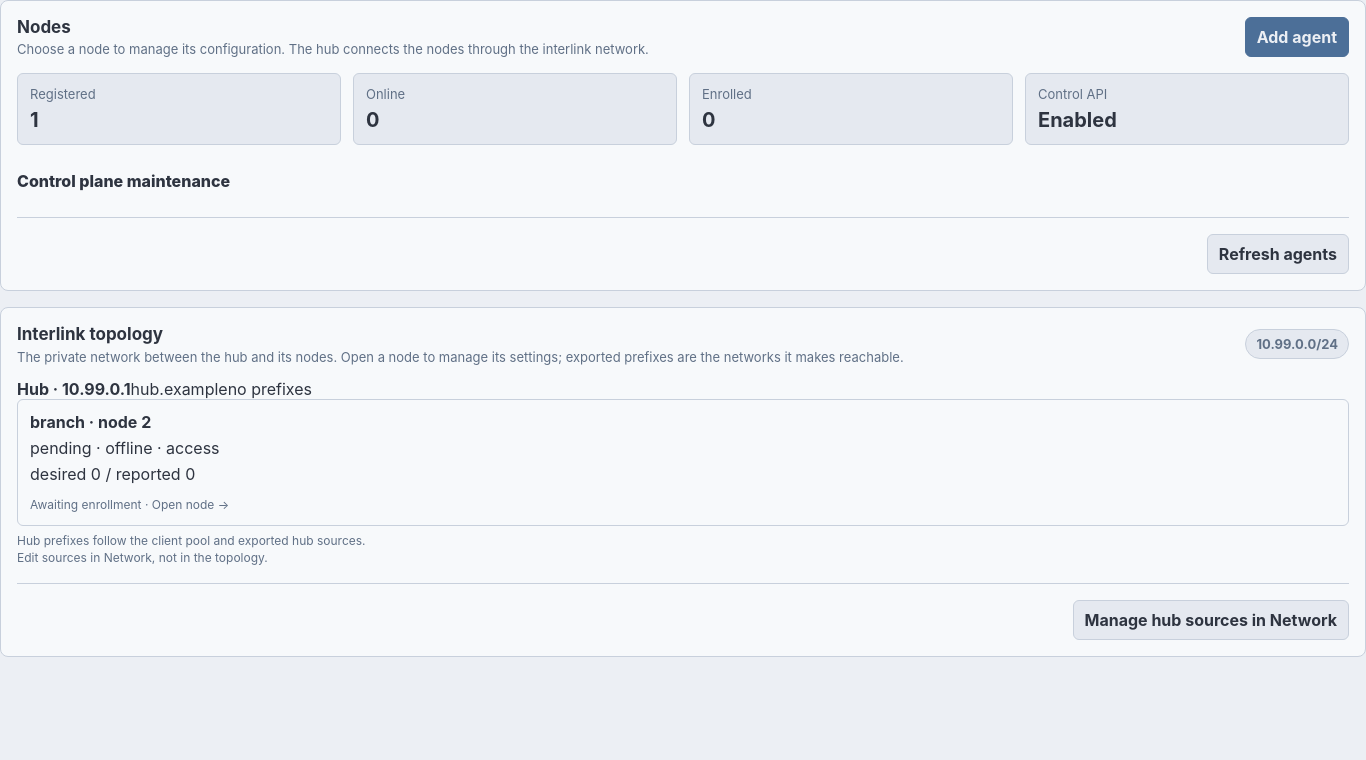
it: Agent management › opens a dedicated node workspace with tabs and retains settings drafts between tabs
Step 1. Click the button "branch · node 2" → click(683, 462), box [17,398,1349,526]
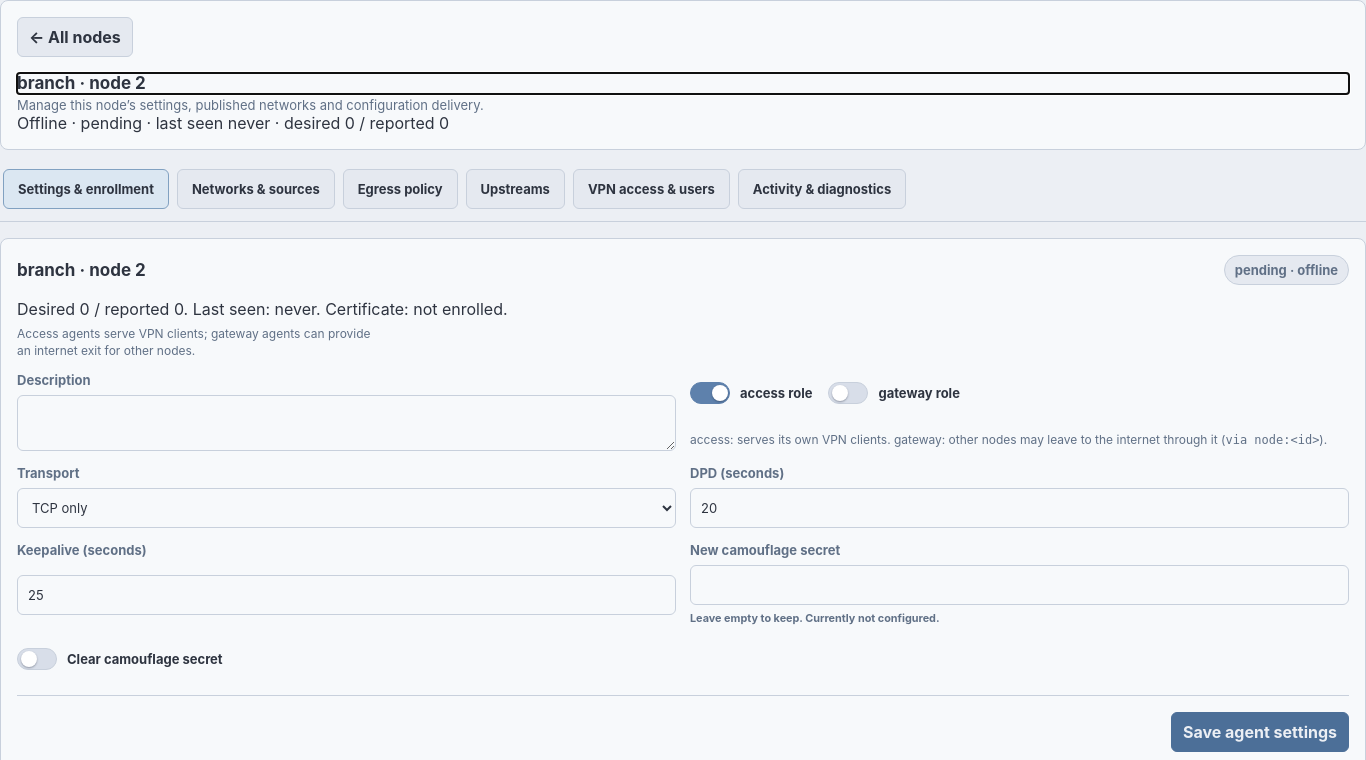
Step 2. Type "Unsaved description" into the text box labelled "Description" → (346, 423), box [17,395,676,450]
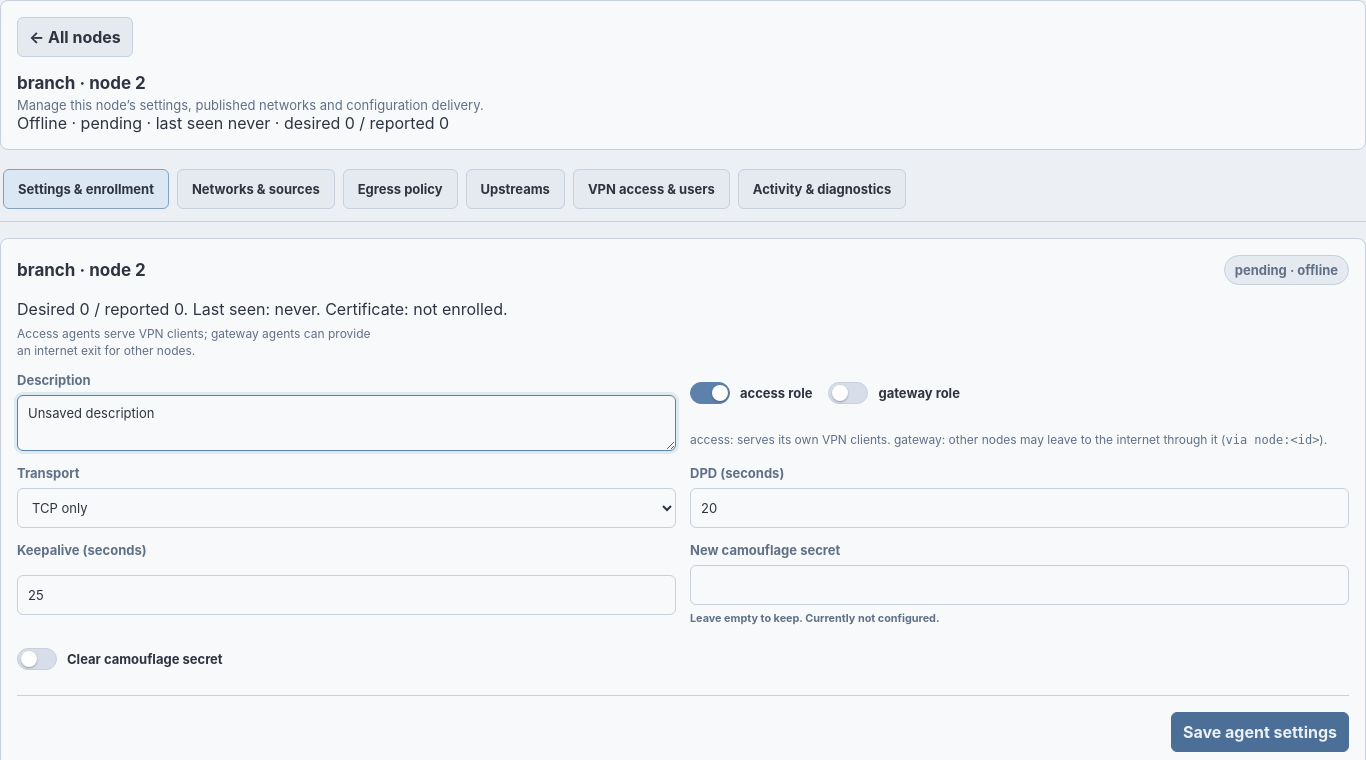
Expected: the button "Add agent" is not shown
Step 3. Click the button "Networks & sources" → click(256, 189), box [177,169,335,209]
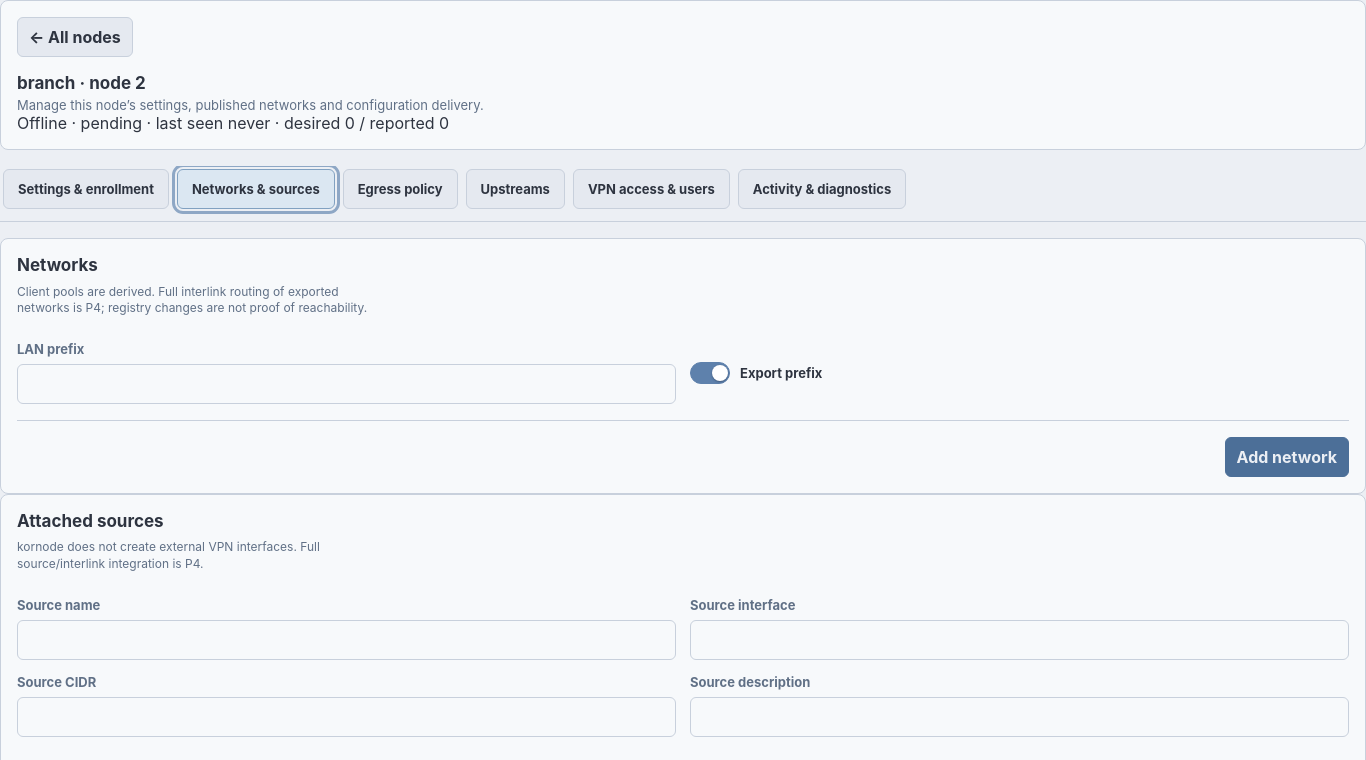
Step 4. Click the button "Settings & enrollment" → click(86, 189), box [3,169,169,209]
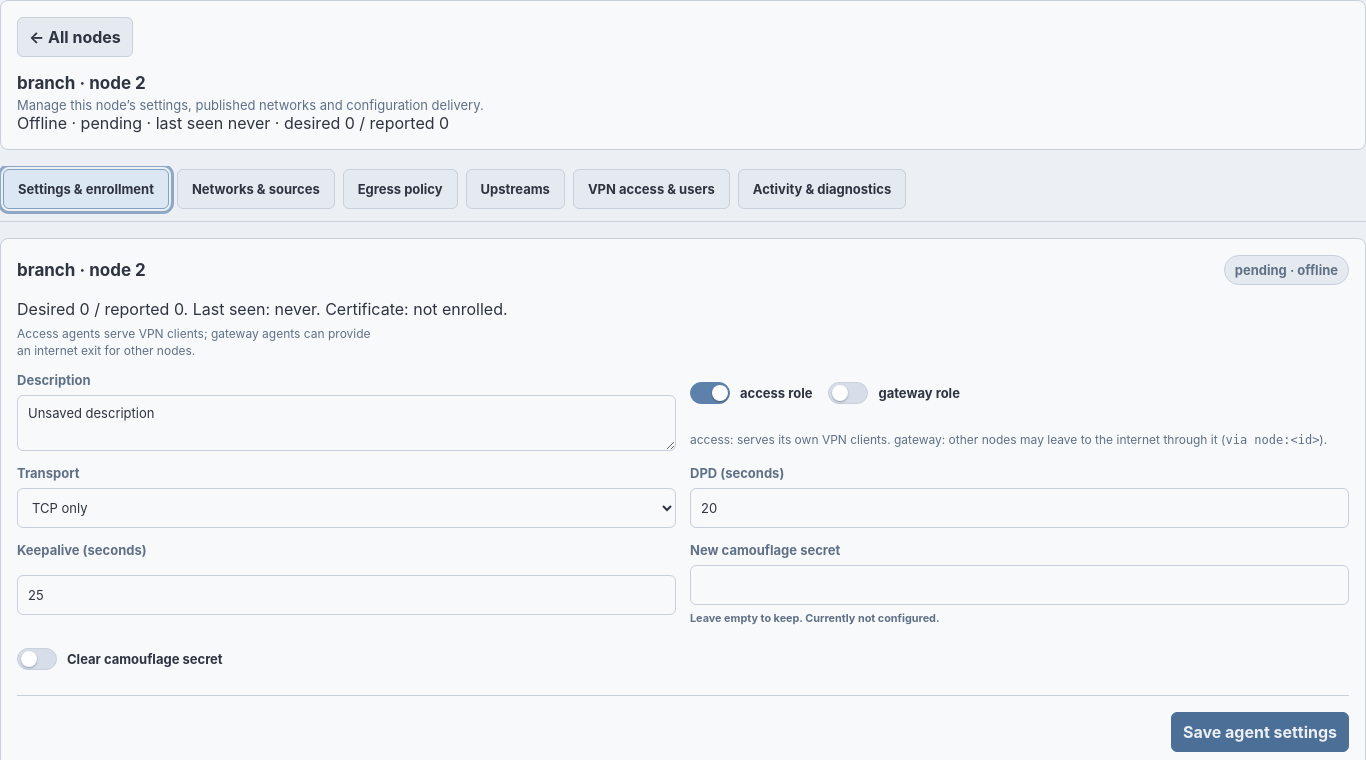
Step 5. Click the button "← All nodes" → click(75, 37), box [17,17,133,57]
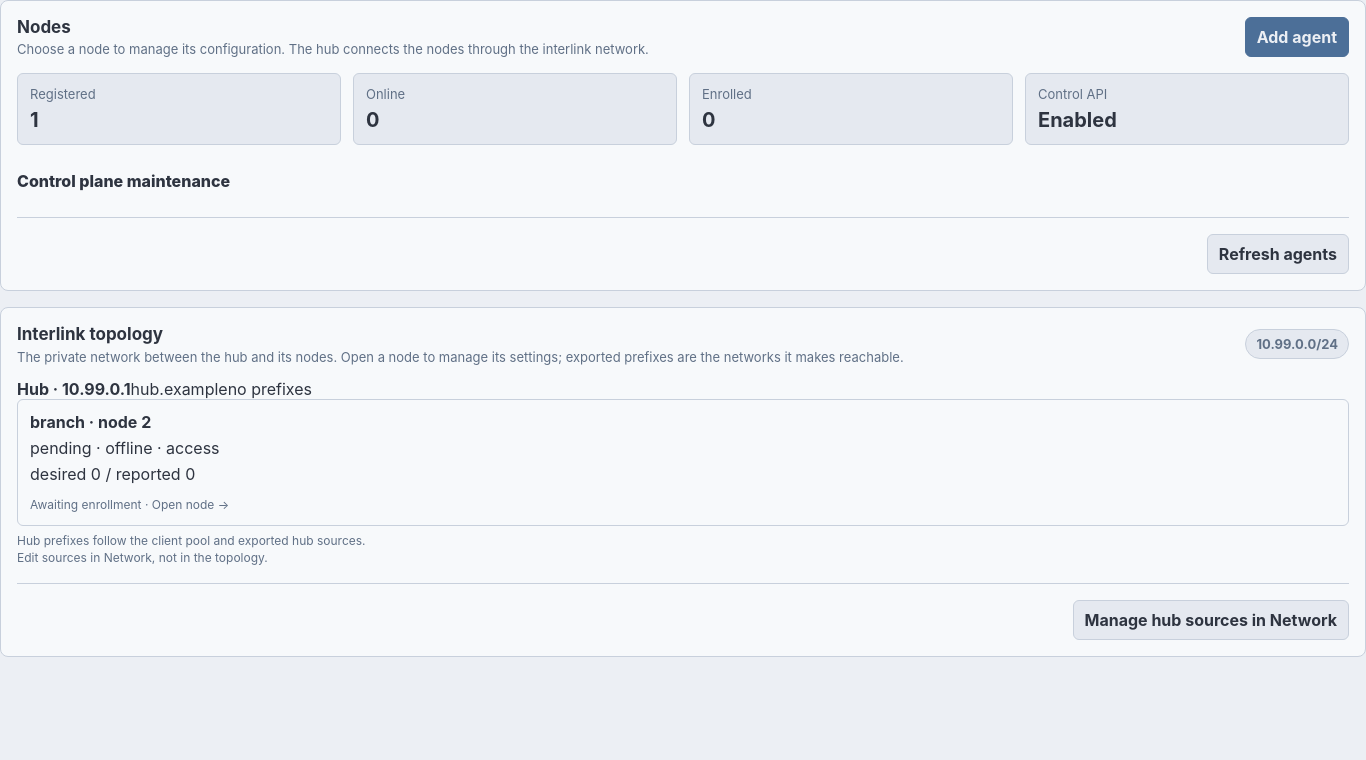
Now the button "Add agent" is shown, box [1245,17,1349,57]
